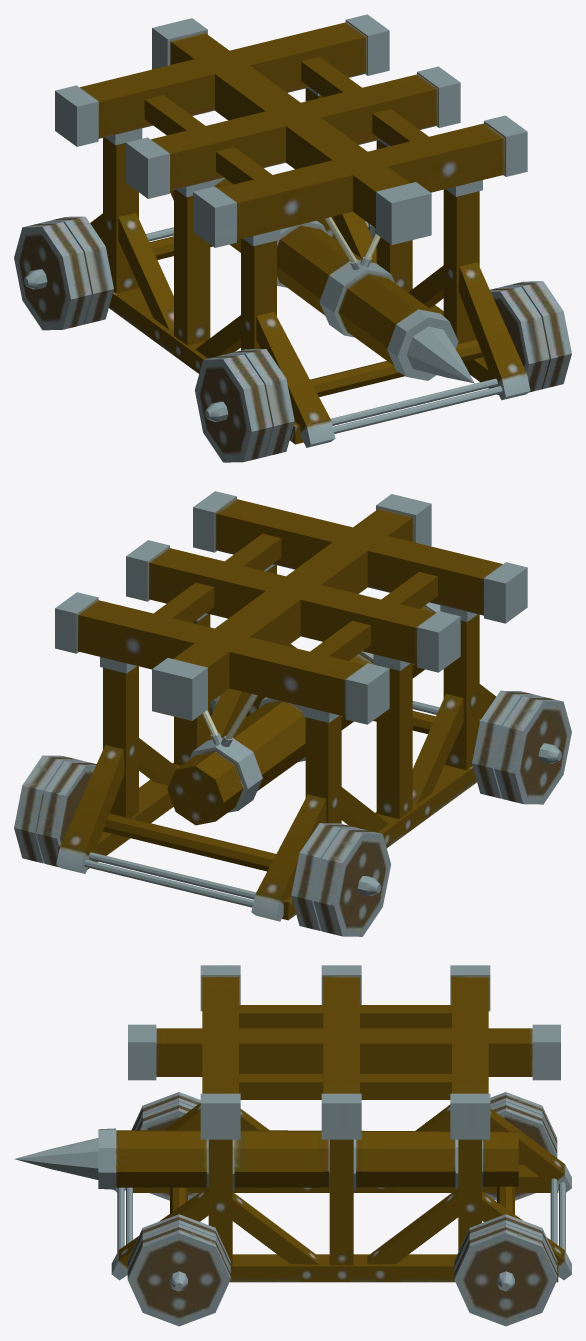
The model's file is ram.glb.
3 renders of one model, top to bottom at view 1: azimuth 30°, elevation 25°; view 2: azimuth 150°, elevation 25°; view 3: azimuth 270°, elevation 25°, orthographic. The views are drawn at different scales.
Visible parts, largest first — view 1: Battering_Ram; view 2: Battering_Ram; view 3: Battering_Ram.
Boxes of the visible parts, x1,y1,x2,y2 form: Battering_Ram: (14, 14, 571, 462); Battering_Ram: (14, 491, 571, 936); Battering_Ram: (14, 965, 571, 1326).
Size of the model in its own units: 1.32 by 0.8792 by 2.
1 material, 1 textured.
